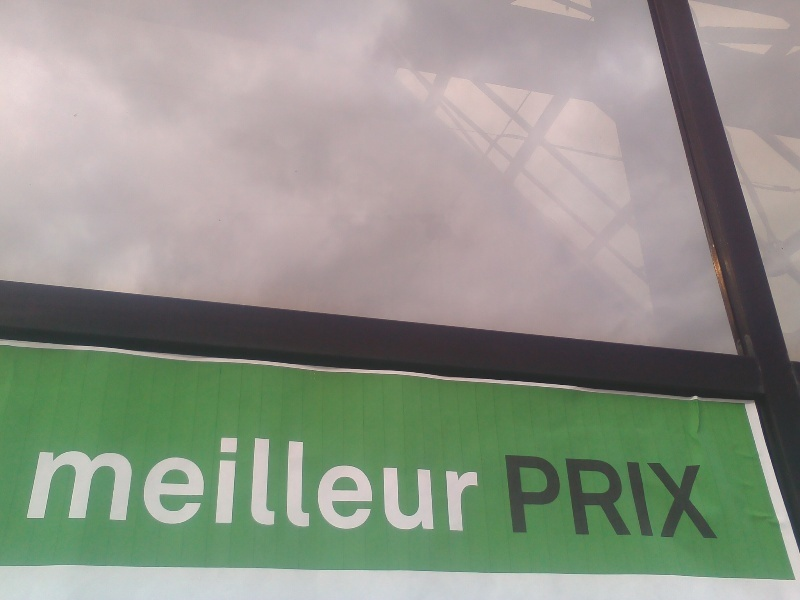text: (49, 430, 64, 533), (65, 430, 80, 533), (81, 430, 96, 533), (97, 430, 112, 533), (113, 430, 128, 533), (129, 430, 144, 533), (145, 430, 160, 533), (161, 430, 176, 533), (177, 430, 192, 533), (193, 430, 208, 533), (209, 430, 224, 533), (225, 430, 240, 533), (241, 430, 256, 533), (257, 430, 272, 533), (273, 430, 288, 533), (289, 430, 304, 533), (305, 430, 320, 533), (321, 430, 336, 533), (337, 430, 352, 533), (353, 430, 368, 533), (369, 430, 384, 533), (385, 430, 400, 533), (401, 430, 416, 533), (417, 430, 432, 533), (433, 430, 448, 533), (449, 430, 464, 533), (465, 430, 480, 533), (513, 454, 528, 540), (529, 454, 544, 540), (545, 454, 560, 540), (561, 454, 576, 540), (577, 454, 592, 540), (593, 454, 608, 540), (609, 454, 624, 540), (625, 454, 640, 540), (641, 454, 656, 540), (657, 454, 672, 540), (673, 454, 688, 540), (689, 454, 704, 540), (705, 454, 719, 540), (502, 454, 512, 540), (40, 430, 48, 533), (481, 430, 485, 533)
